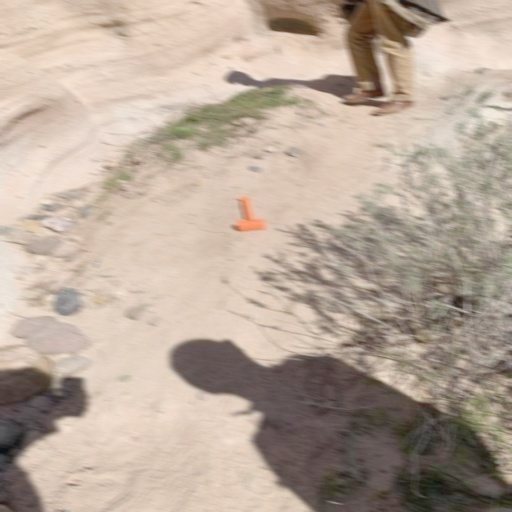mallet: (236, 196, 266, 231)
